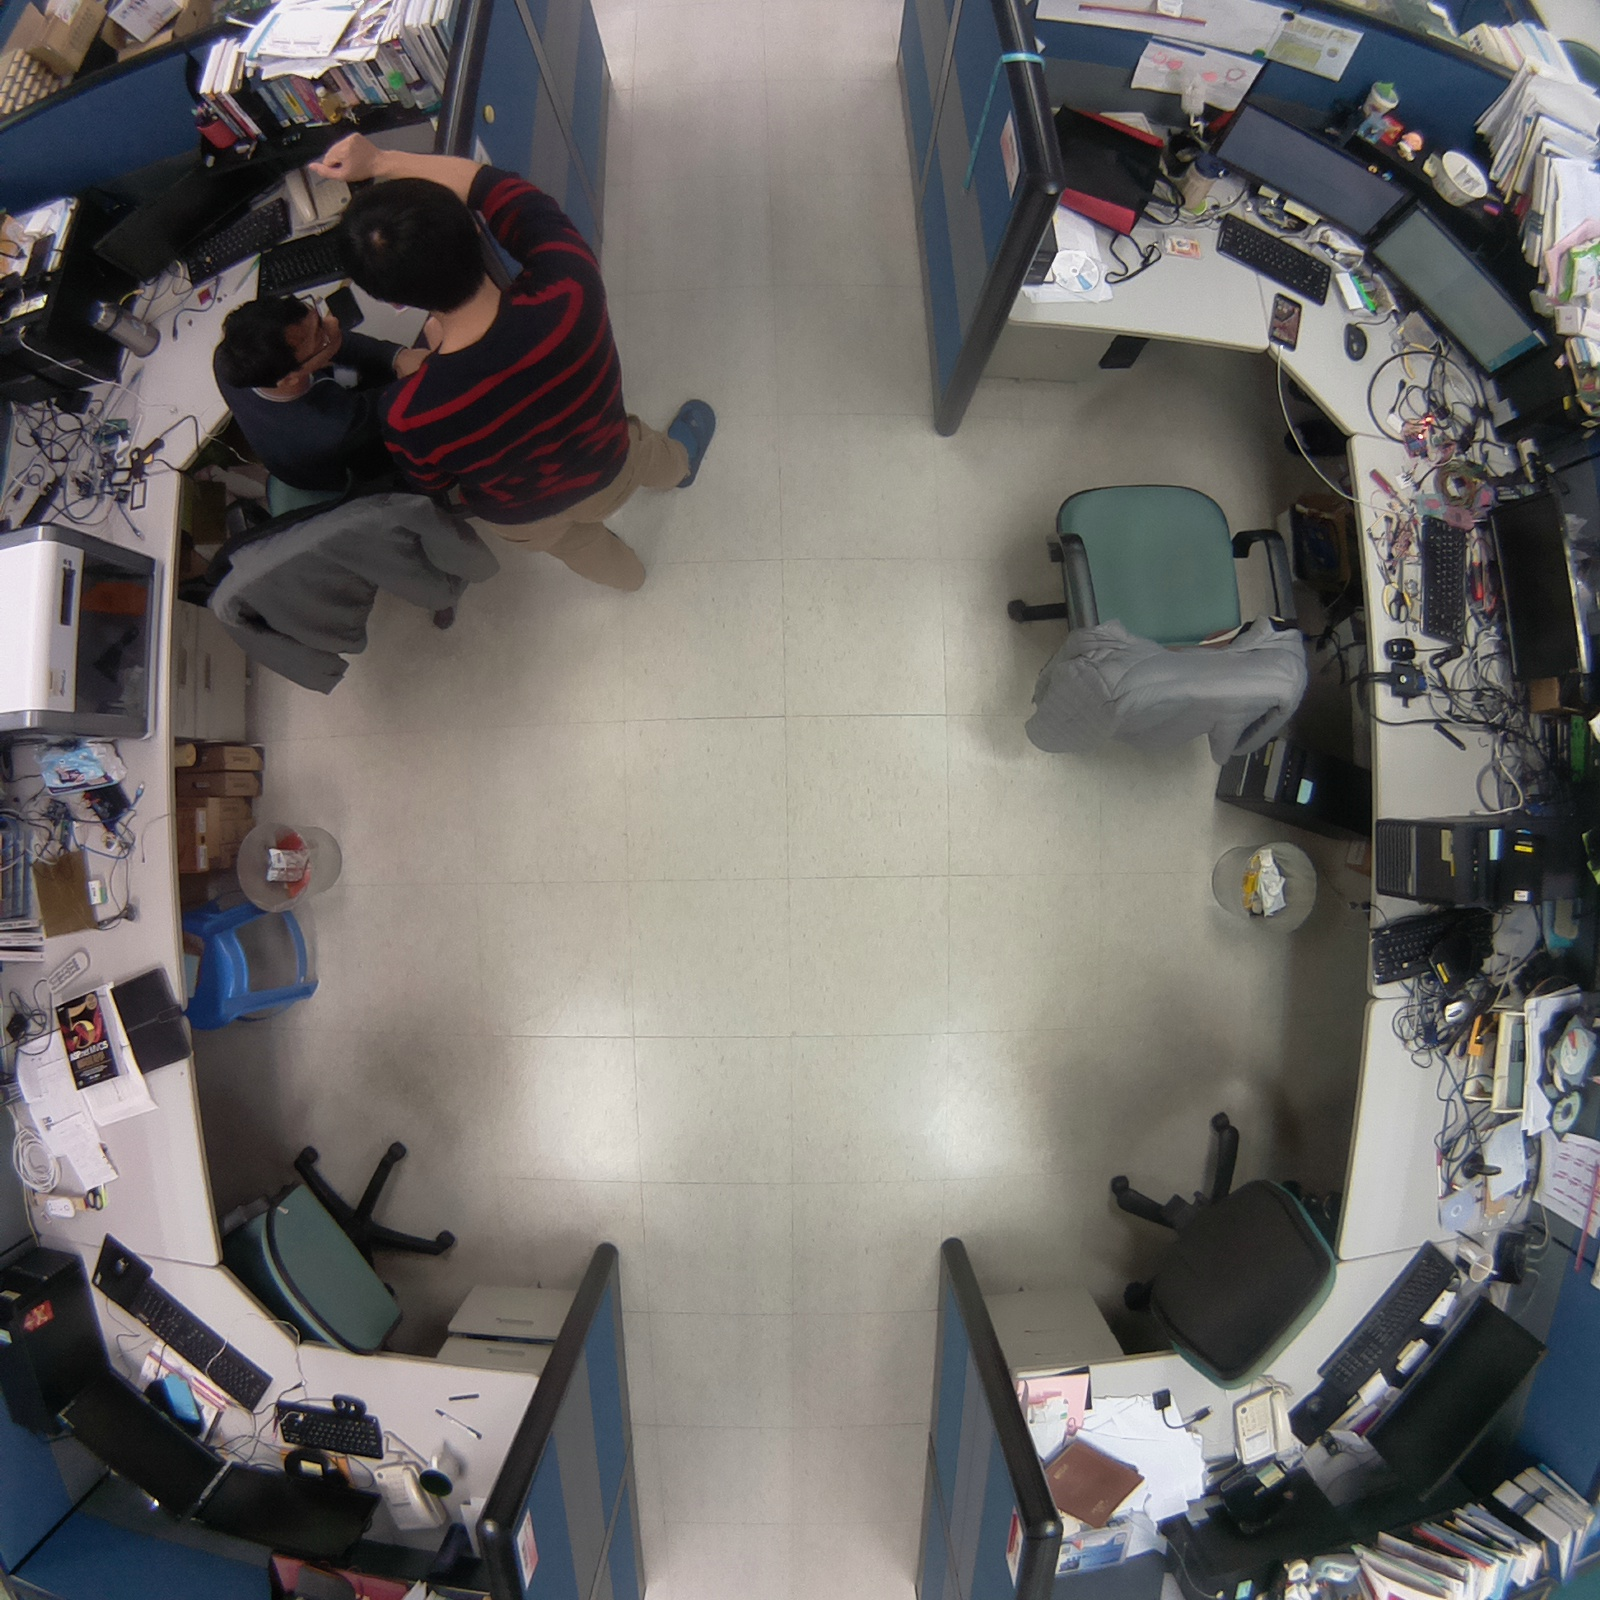chair: (996, 445, 1319, 781), (1094, 1088, 1363, 1409), (199, 1114, 473, 1373)
head: (327, 165, 491, 323), (217, 295, 346, 400)
sitting: (199, 286, 514, 706)
standing: (319, 172, 722, 600)
